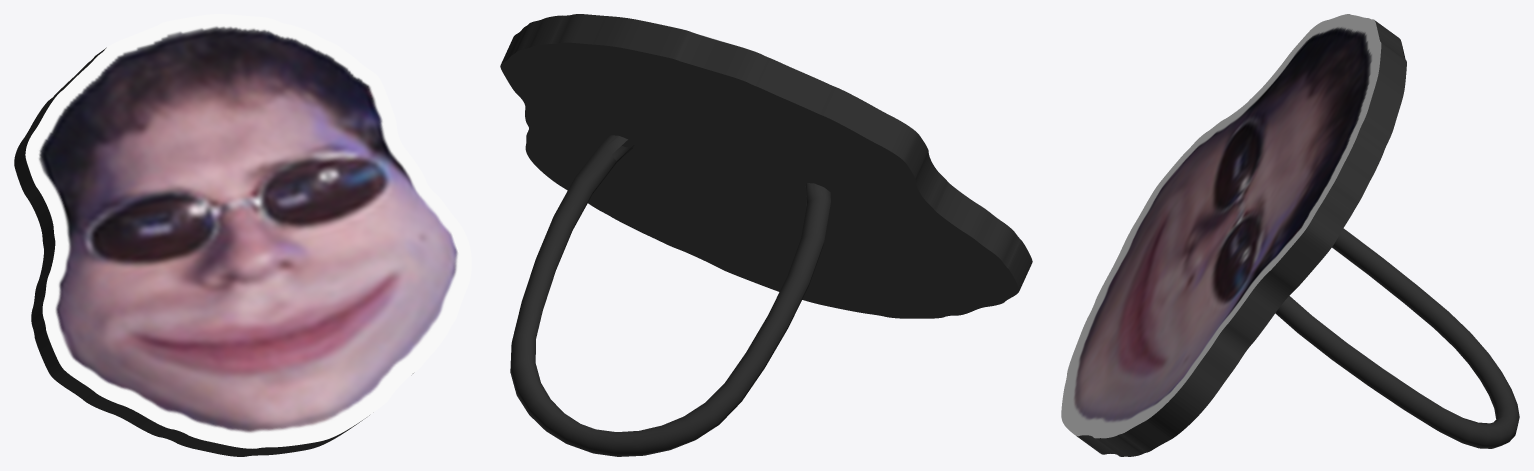
File: Toady_WorldItem.fbx
3 renders of one model, left to right at view 1: azimuth 30°, elevation 25°; view 2: azimuth 150°, elevation 25°; view 3: azimuth 270°, elevation 25°, orthographic. The views are drawn at different scales.
Visible parts, largest first — view 1: Curve; view 2: Curve; view 3: Curve.
Part boxes in pixels (x1,y1,x2,y2): Curve: [14, 14, 471, 456]; Curve: [500, 14, 1032, 456]; Curve: [1061, 14, 1519, 456].
Size of the model in its own units: 0.1923 by 0.1475 by 0.1613.
